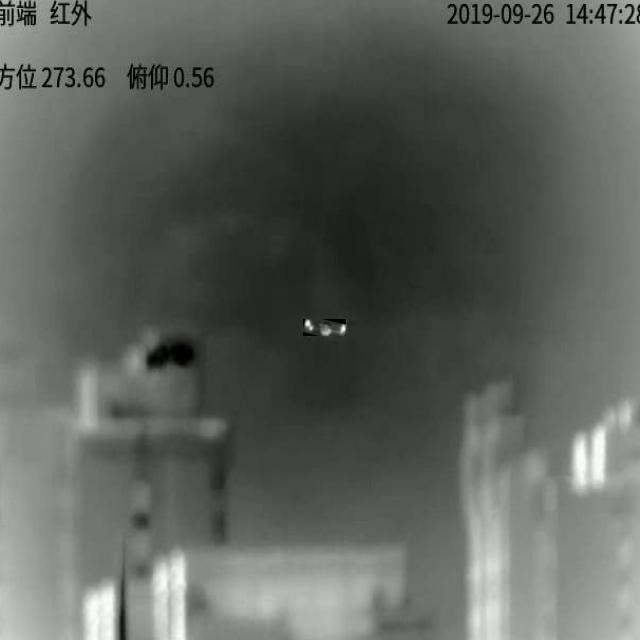drone: (304, 319, 346, 336)
